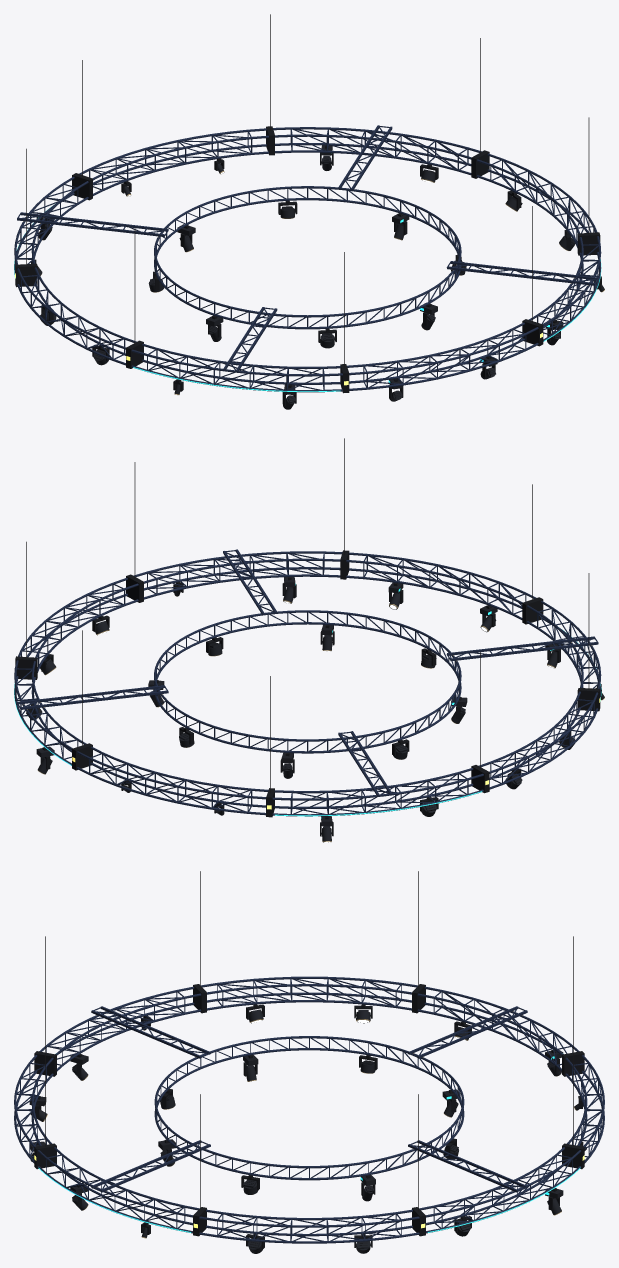
File: lighting_rig.glb
3 views of the same model, one above another, from view 1: azimuth 30°, elevation 25°; view 2: azimuth 150°, elevation 25°; view 3: azimuth 270°, elevation 25° (orthographic).
Visible parts, largest first — view 1: LightingRig_MainRing, LightingRig_InnerRing, LightingRig_RadialBeam, LightingRig_Connector, LightingRig_SupportCable; view 2: LightingRig_MainRing, LightingRig_InnerRing, LightingRig_RadialBeam, LightingRig_Connector, LightingRig_SupportCable; view 3: LightingRig_MainRing, LightingRig_InnerRing, LightingRig_RadialBeam, LightingRig_Connector, LightingRig_SupportCable.
Part boxes in pixels (x1,y1,x2,y2): LightingRig_MainRing: [14, 127, 601, 392]; LightingRig_InnerRing: [154, 186, 461, 329]; LightingRig_RadialBeam: [17, 125, 598, 372]; LightingRig_Connector: [15, 126, 600, 393]; LightingRig_SupportCable: [26, 14, 589, 368]; LightingRig_MainRing: [14, 551, 601, 816]; LightingRig_InnerRing: [154, 610, 461, 753]; LightingRig_RadialBeam: [17, 549, 598, 796]; LightingRig_Connector: [15, 550, 600, 817]; LightingRig_SupportCable: [26, 438, 589, 792]; LightingRig_MainRing: [14, 976, 604, 1243]; LightingRig_InnerRing: [154, 1036, 464, 1180]; LightingRig_RadialBeam: [91, 1006, 527, 1192]; LightingRig_Connector: [34, 984, 584, 1236]; LightingRig_SupportCable: [45, 871, 573, 1211].
Bounding box in the file's own units: 13.45 × 4.09 × 13.45.
